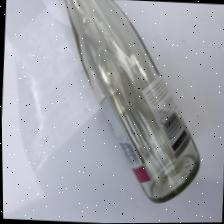glass_bottle: (53, 0, 209, 208)
